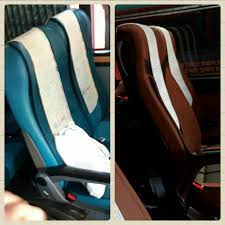seat: (121, 20, 219, 211)
